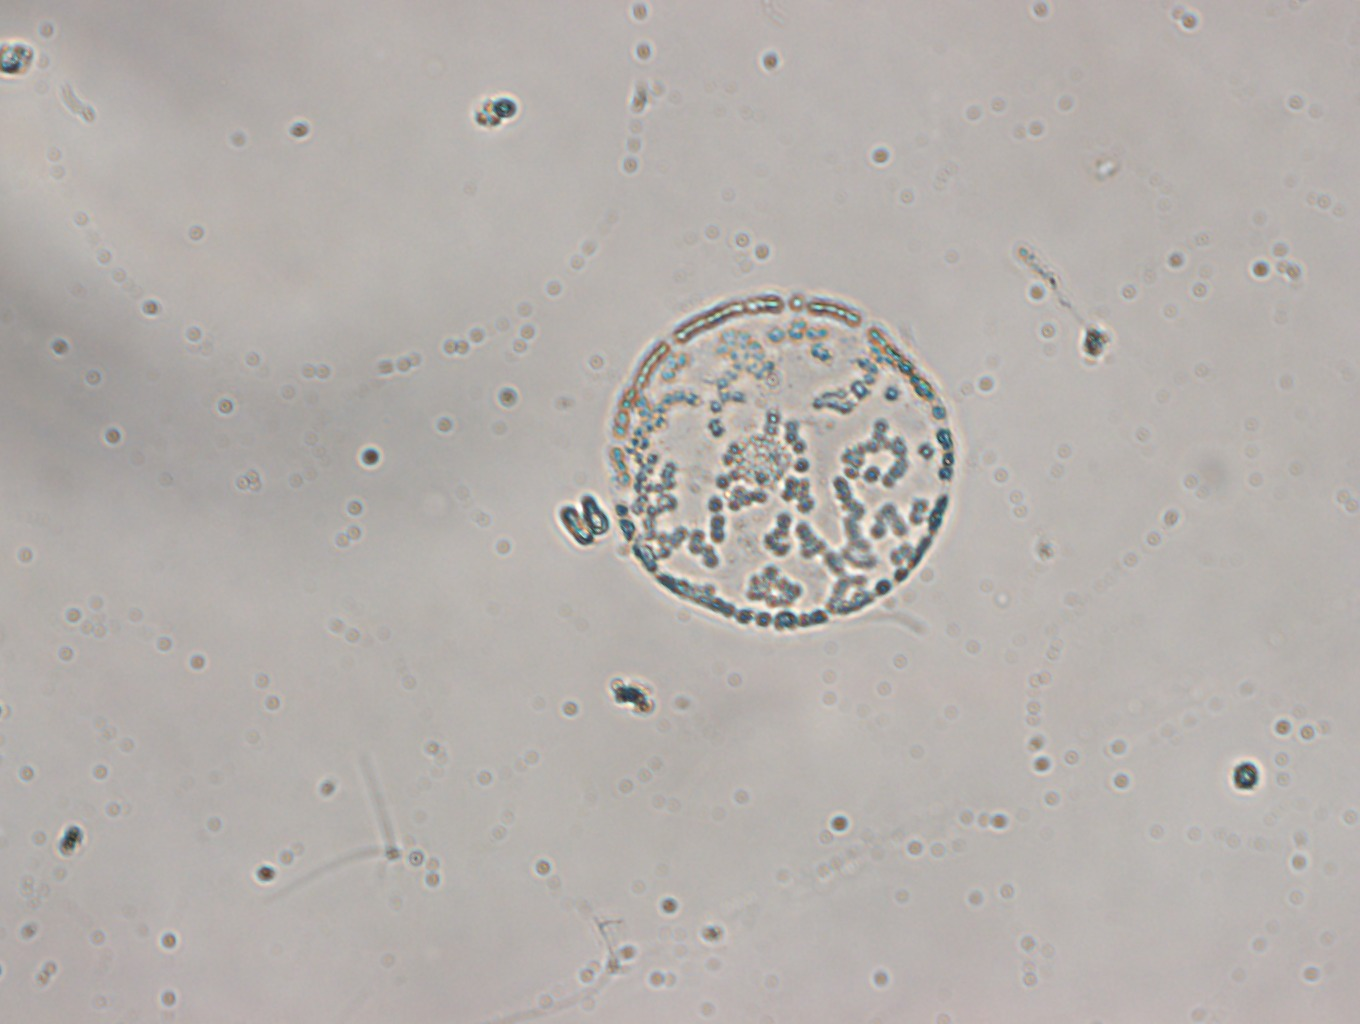coscinodiscus: (609, 293, 957, 629)
